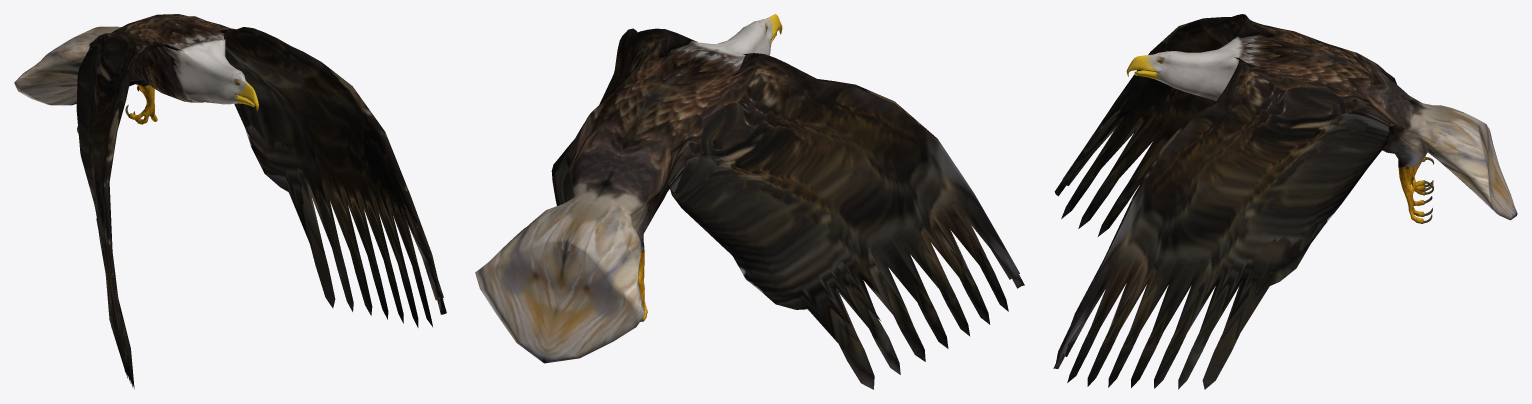
File: Eagle-original_000015.obj
3 views of the same model, side by side, from view 1: azimuth 30°, elevation 25°; view 2: azimuth 150°, elevation 25°; view 3: azimuth 270°, elevation 25° (orthographic). The views are drawn at different scales.
Visible parts, largest first — view 1: Flugel_Plane.003; view 2: Flugel_Plane.003; view 3: Flugel_Plane.003.
Boxes of the visible parts, x1=… form: Flugel_Plane.003: x1=14, y1=14, x2=446, y2=389; Flugel_Plane.003: x1=475, y1=14, x2=1024, y2=389; Flugel_Plane.003: x1=1053, y1=14, x2=1517, y2=389.
Bounding box in the file's own units: 5.33 × 4.62 × 6.6.
Materials: 1 (1 with a texture image).
